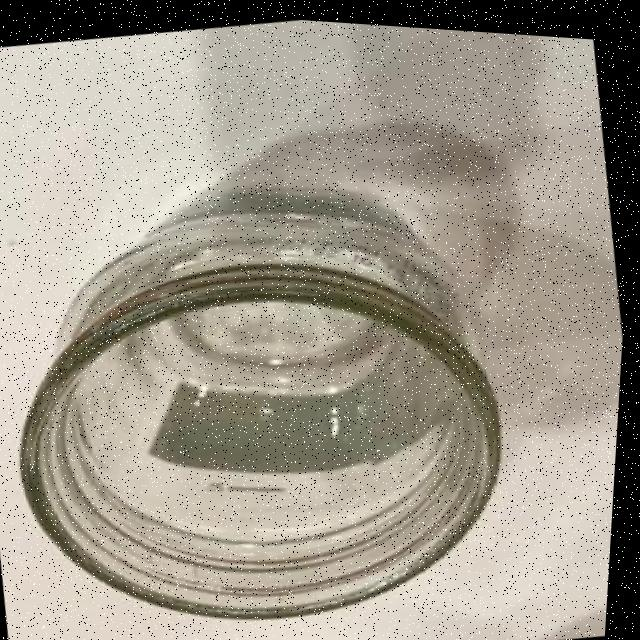glass: (0, 140, 551, 640)
